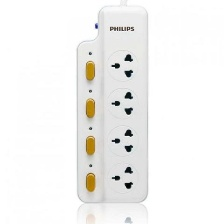three_eye_plug: (71, 3, 149, 205)
